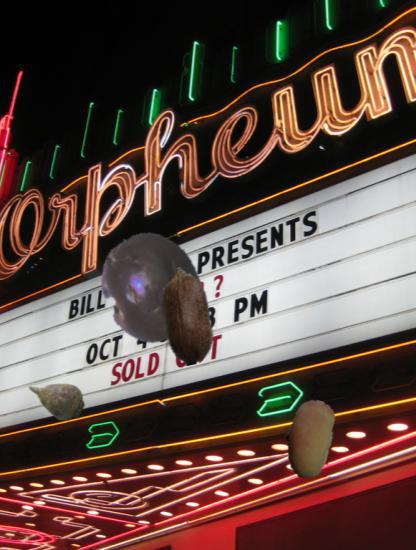Beetroot: (27, 368, 87, 428)
Nut: (138, 267, 236, 365)
Passion: (94, 230, 208, 344)
Peach: (269, 399, 348, 478)
